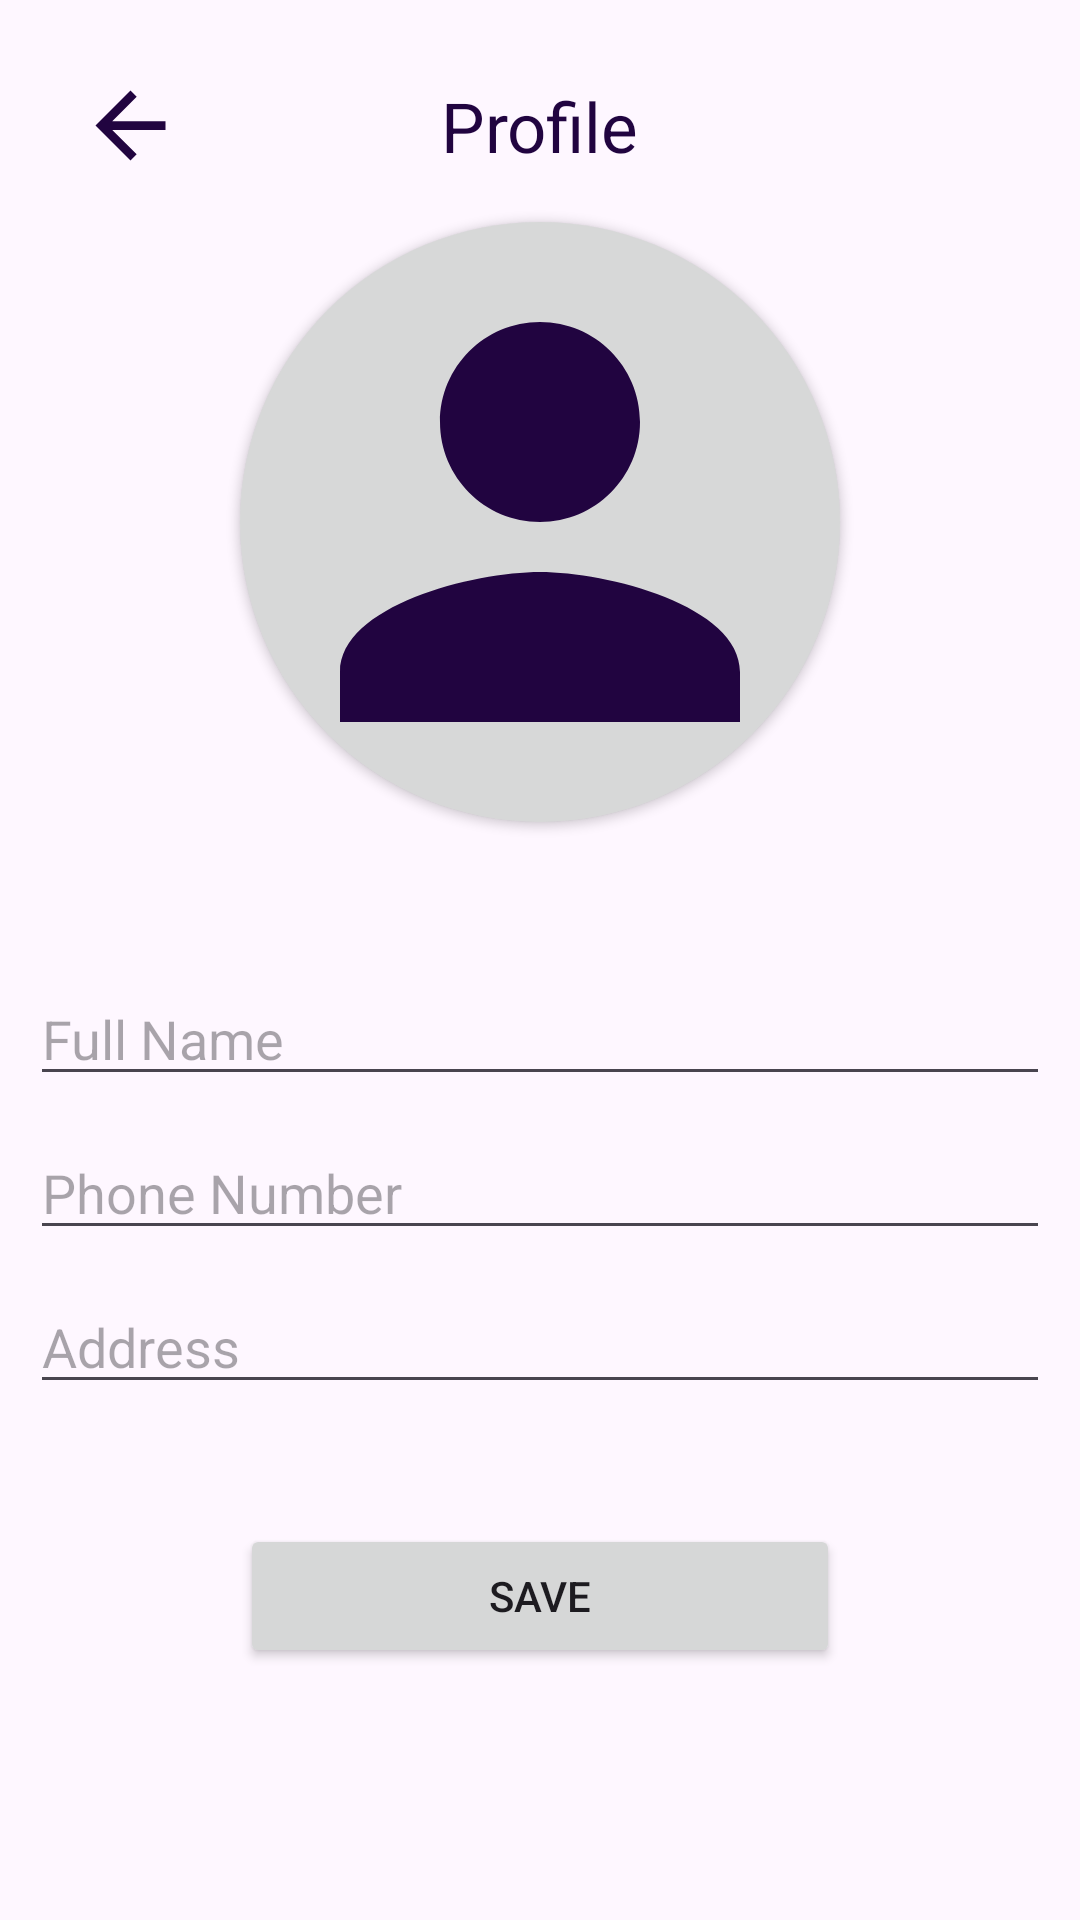

Where icons sit on this 1080x1920 app screen, as (x1, y1, x2, y2):
arrow back: (95, 90, 166, 161)
